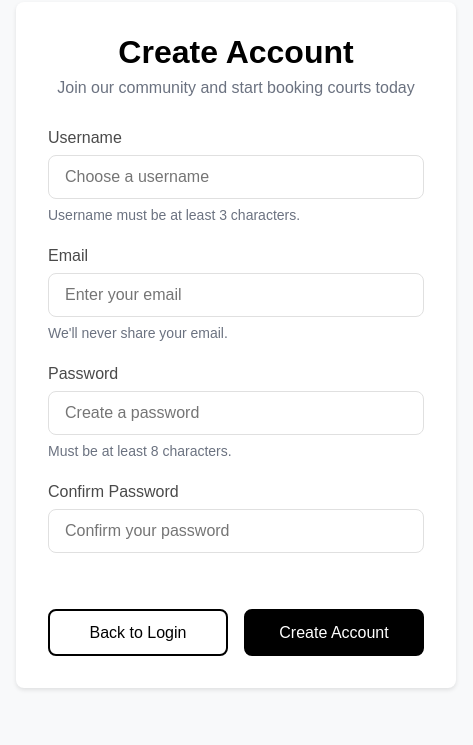
Scenario: Register Component › validates password match
Type "test@test.com" into the field with placeholder "Enter your email" at {"x": 236, "y": 295}, box [48, 273, 424, 317]
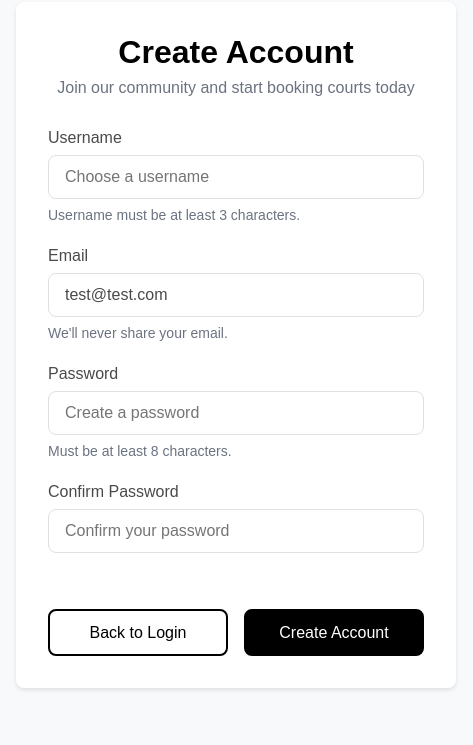
Type "testuser" into the field with placeholder "Choose a username" at {"x": 236, "y": 177}, box [48, 155, 424, 199]
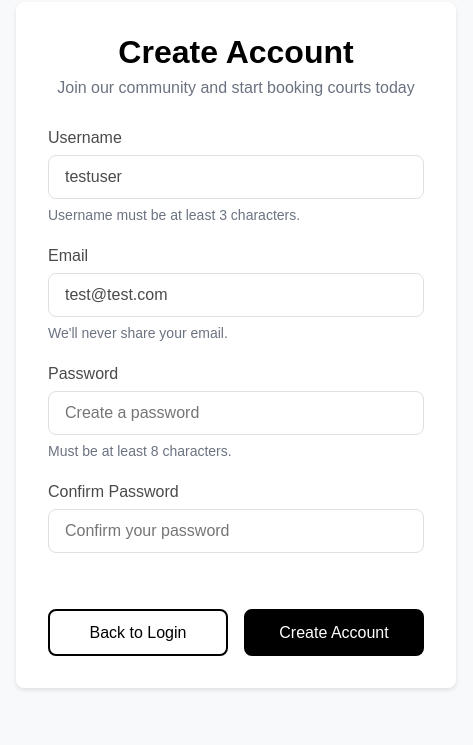
Type "password123" into the password field with placeholder "Create a password" at {"x": 236, "y": 413}, box [48, 391, 424, 435]
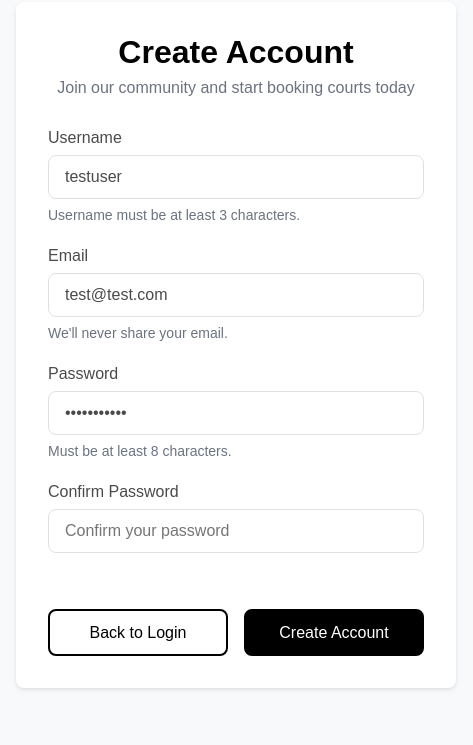
Type "password456" into the password field with placeholder "Confirm your password" at {"x": 236, "y": 531}, box [48, 509, 424, 553]
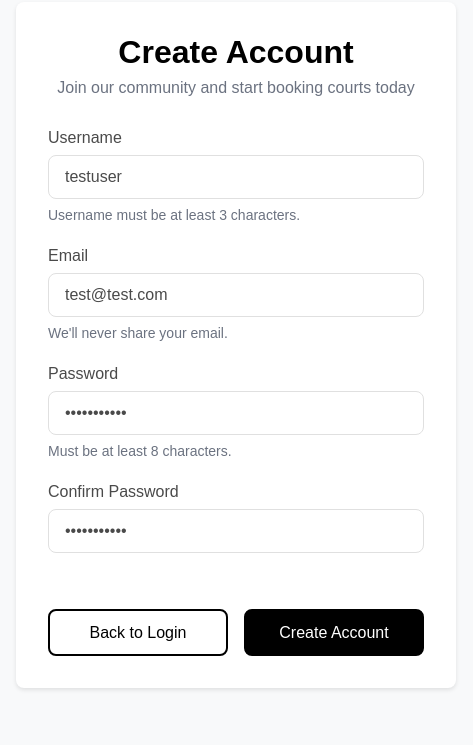
Click the button "Create Account" at {"x": 334, "y": 632}, box [244, 609, 424, 656]
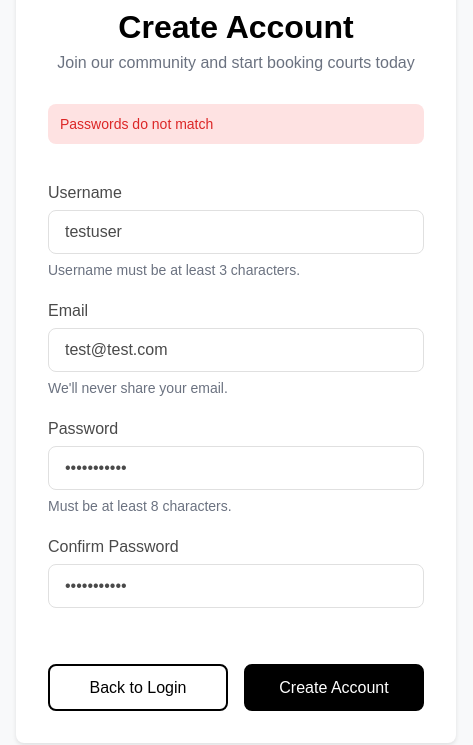
Now the text "Passwords do not match" is shown, box [48, 104, 424, 144]
